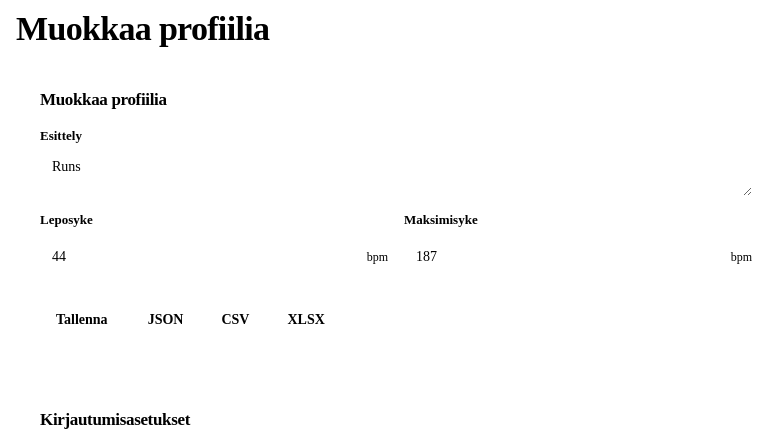
Test: ProfilePage › saves the profile fields without a display name
Click the button "Tallenna".
click(82, 320)  # box [40,300,124,340]
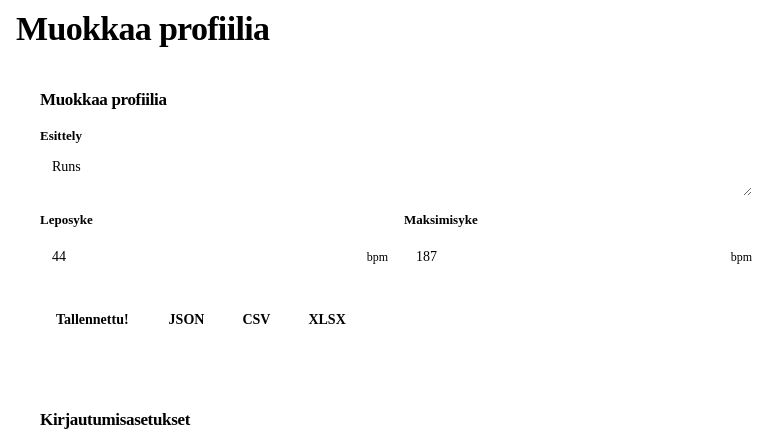
Expected: the button "Tallennettu!" is shown, [40,300,145,340]
